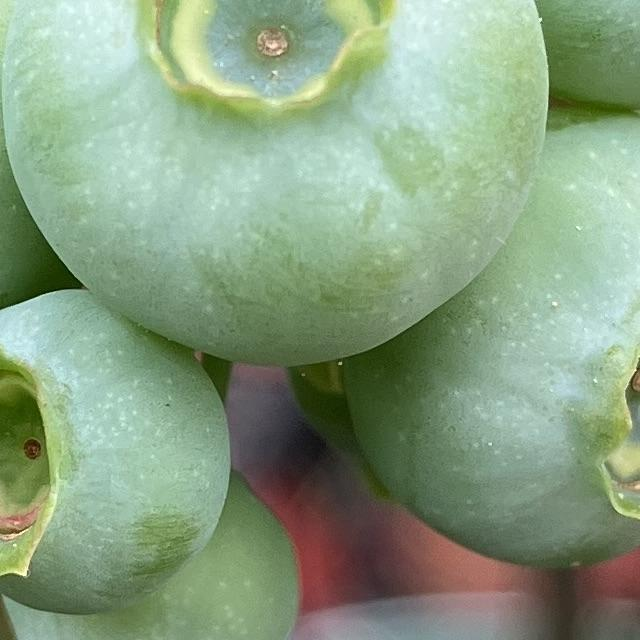Blueberries: (0, 0, 550, 365), (355, 116, 640, 558), (0, 283, 243, 612)
